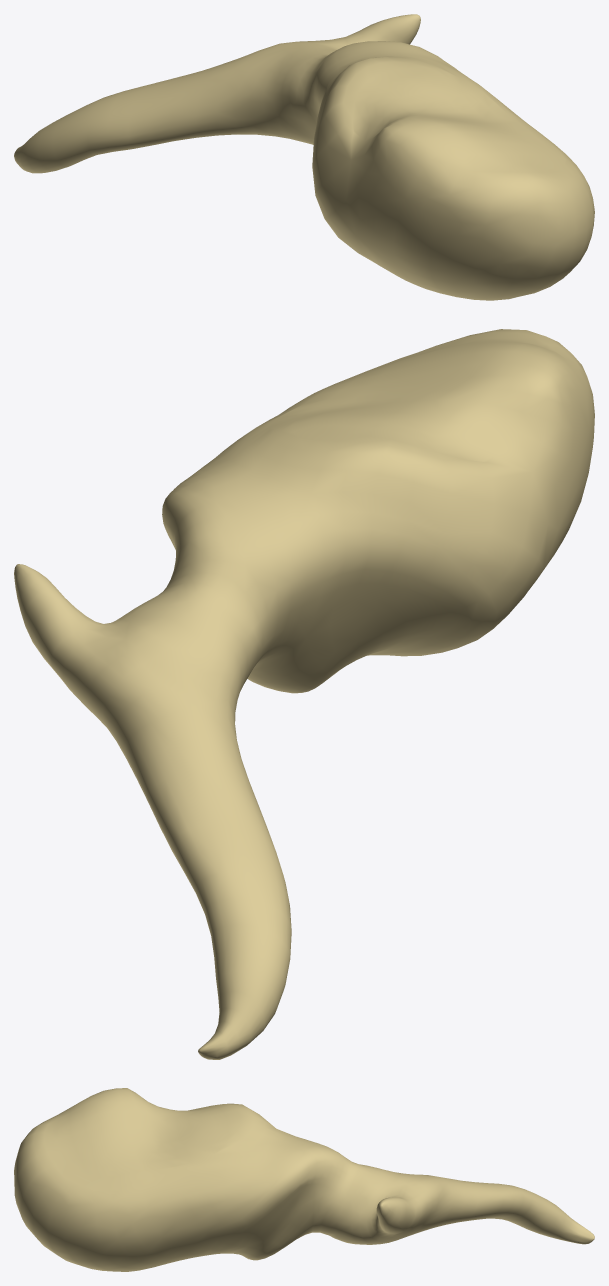
The picture shows the model from 3 angles, top to bottom: view 1: azimuth 30°, elevation 25°; view 2: azimuth 150°, elevation 25°; view 3: azimuth 270°, elevation 25°; orthographic projection. The views are drawn at different scales.
Parts seen in each view (by area): view 1: 左侧锤骨; view 2: 左侧锤骨; view 3: 左侧锤骨.
Boxes of the visible parts, x1,y1,x2,y2 form: 左侧锤骨: (14,14,594,300); 左侧锤骨: (14,329,594,1059); 左侧锤骨: (14,1088,594,1271).
Size of the model in its own units: 0.00536 by 0.00424 by 0.0121.
